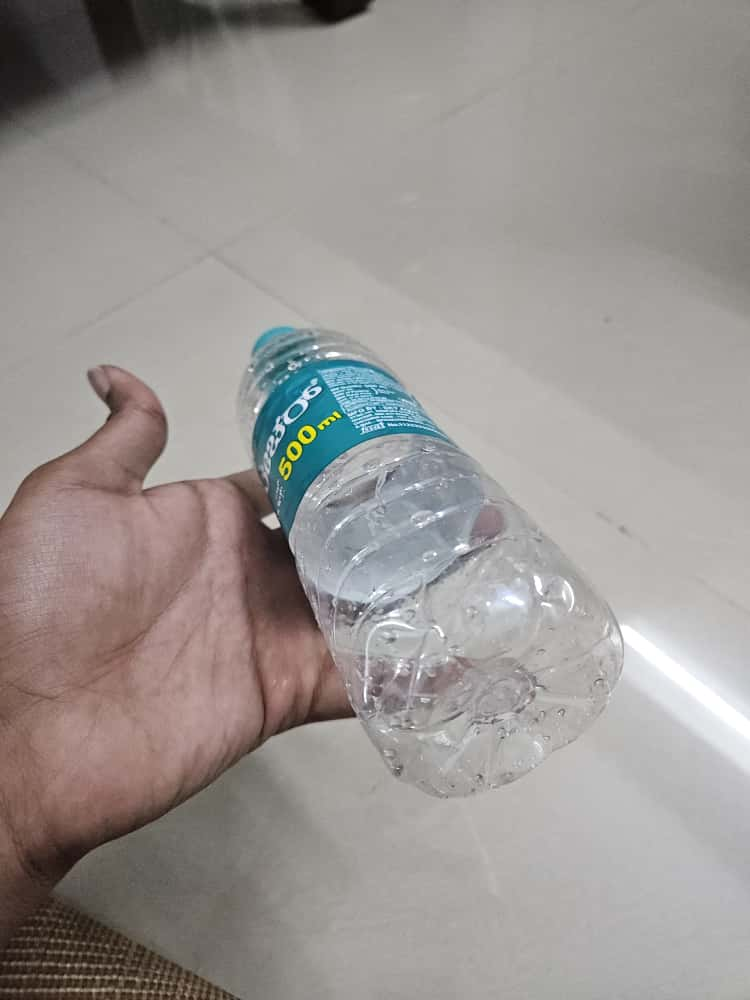dry: (197, 326, 682, 782)
